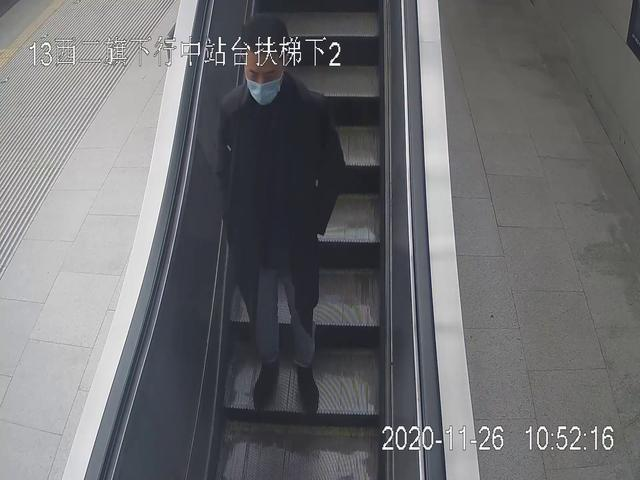person: (216, 16, 345, 414)
